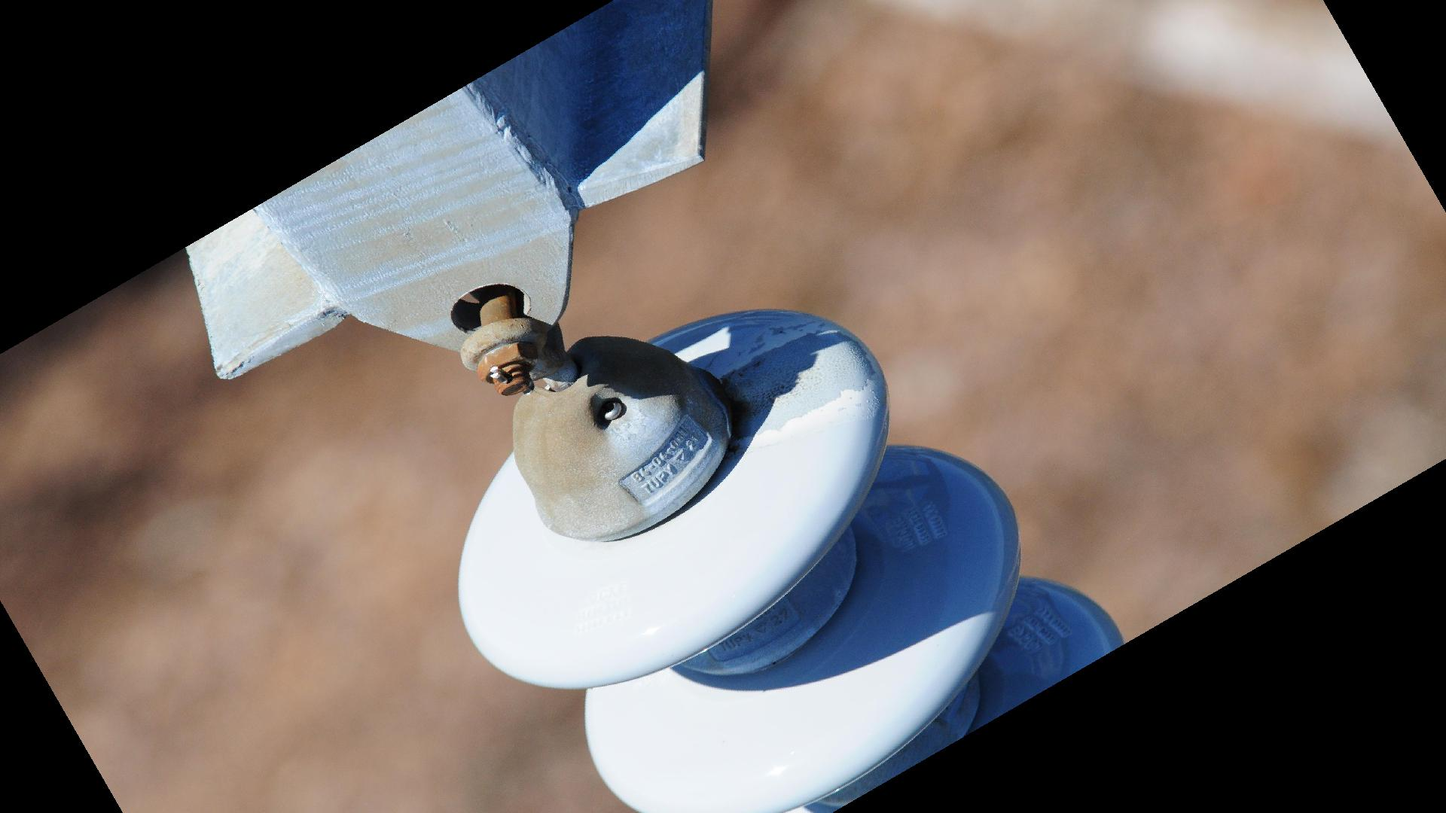insulator: (451, 300, 1127, 813)
insulator_flashover: (714, 324, 874, 437)
